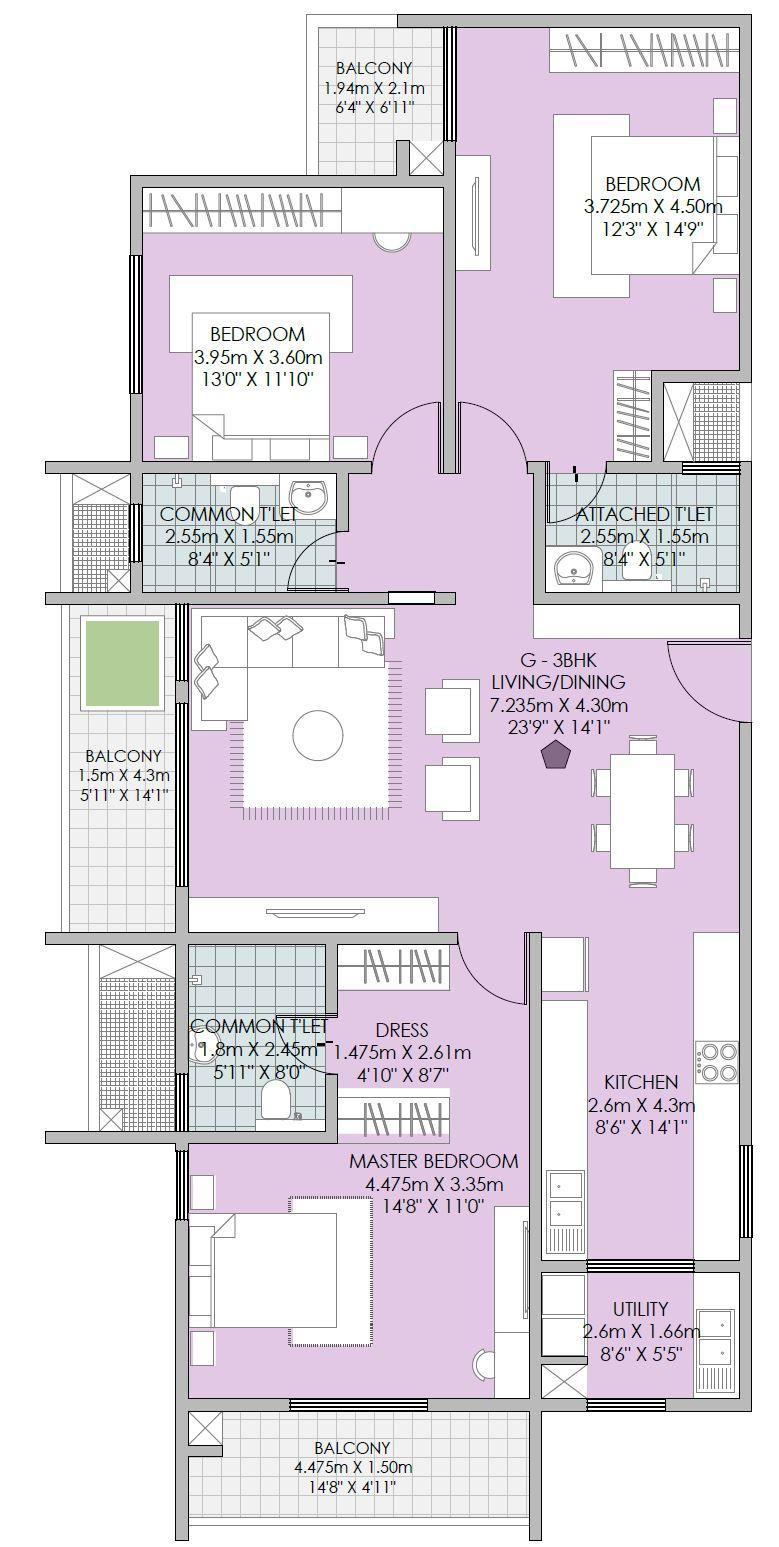Balcony: (186, 1414, 530, 1534), (60, 606, 179, 935), (316, 25, 448, 177)
Bed: (191, 310, 332, 466), (590, 137, 742, 276), (188, 1212, 339, 1331)
Bedroom: (185, 943, 536, 1406), (450, 24, 746, 468), (142, 189, 448, 468)
Dining Room: (479, 725, 744, 939)
Dining table: (586, 739, 695, 884)
Foyer: (495, 632, 745, 723)
Kitchen: (542, 934, 743, 1263)
Living Room: (188, 600, 479, 901)
Sofa: (200, 610, 395, 668), (194, 610, 253, 728), (421, 674, 486, 742), (425, 759, 485, 817)
Terrace: (537, 475, 741, 633)
Wardrobe: (97, 954, 176, 1135), (546, 26, 741, 75), (140, 190, 343, 229), (659, 377, 741, 464), (535, 603, 742, 632), (336, 941, 448, 991), (338, 1088, 451, 1137), (614, 372, 651, 461)
commode: (233, 475, 264, 527), (260, 1078, 293, 1122), (620, 543, 655, 580)
door: (668, 643, 750, 732), (168, 603, 192, 889), (459, 400, 532, 470), (369, 398, 438, 471), (287, 1392, 433, 1424), (463, 939, 526, 1012), (282, 523, 348, 587), (275, 1010, 341, 1073), (545, 475, 603, 524), (584, 1258, 698, 1280)
fridge: (543, 936, 590, 995)
kitchen-slab: (694, 937, 741, 1264), (541, 1002, 588, 1264)
sink: (543, 1168, 585, 1261), (693, 1313, 732, 1392), (549, 550, 602, 590), (184, 1024, 228, 1066), (290, 478, 331, 515)
stove: (693, 1038, 741, 1087)
toilet: (185, 943, 334, 1133), (142, 470, 344, 595), (545, 466, 745, 590)
tv: (499, 1208, 531, 1351), (242, 901, 383, 930), (457, 159, 490, 264)
utility: (535, 1266, 744, 1402)
washing-machine: (543, 1274, 586, 1353)
